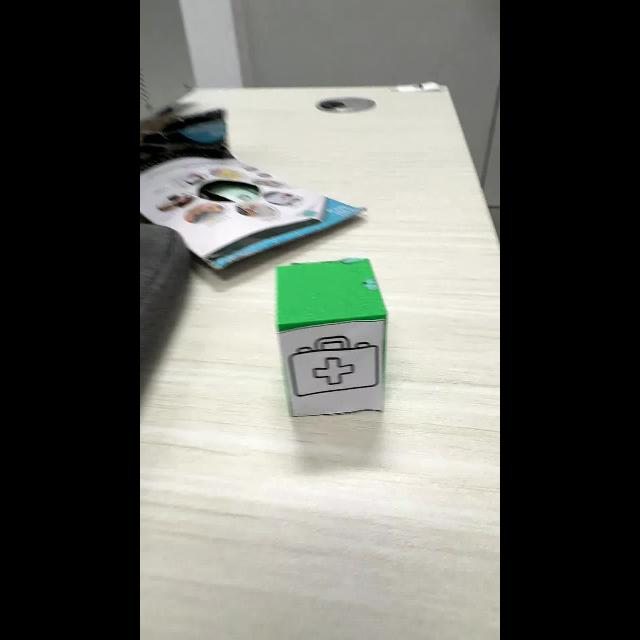Medkit: (288, 336, 379, 397)
